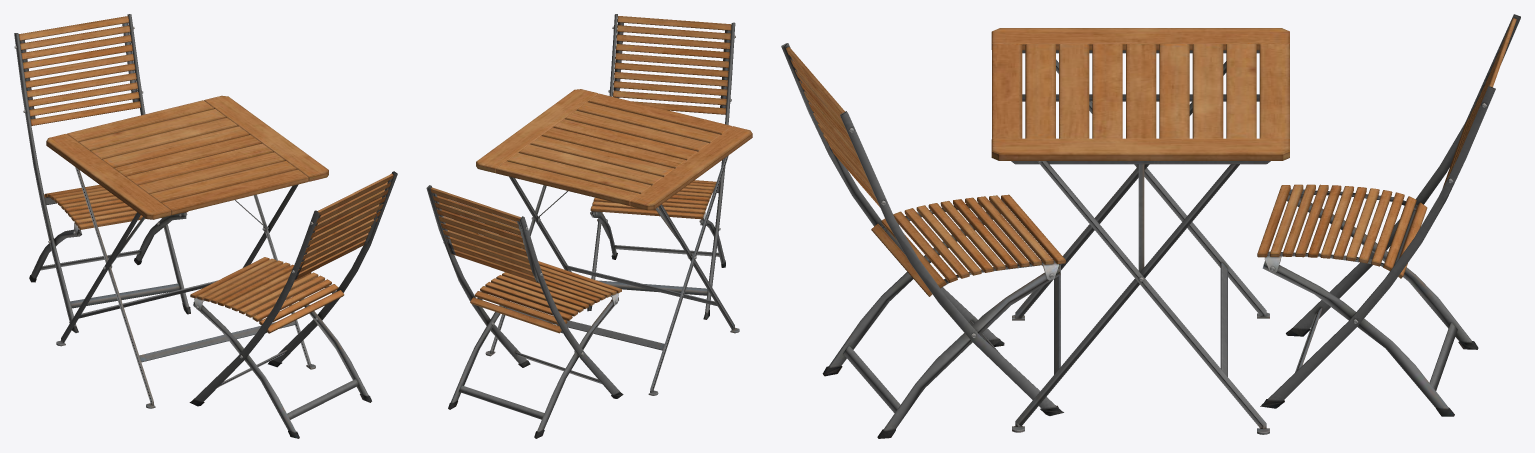
File: outdoor_set.glb
3 renders of one model, left to right at view 1: azimuth 30°, elevation 25°; view 2: azimuth 150°, elevation 25°; view 3: azimuth 270°, elevation 25°, orthographic. The views are drawn at different scales.
Visible parts, largest first — view 1: outdoor_table_chair_set_01_chair_01, outdoor_table_chair_set_01_table; view 2: outdoor_table_chair_set_01_chair_01, outdoor_table_chair_set_01_table; view 3: outdoor_table_chair_set_01_table, outdoor_table_chair_set_01_chair_01.
Part boxes in pixels (x1,y1,x2,y2): outdoor_table_chair_set_01_chair_01: (14,14,397,438); outdoor_table_chair_set_01_table: (46,95,328,408); outdoor_table_chair_set_01_chair_01: (426,14,735,438); outdoor_table_chair_set_01_table: (476,89,752,395); outdoor_table_chair_set_01_table: (991,28,1289,434); outdoor_table_chair_set_01_chair_01: (781,14,1520,438).
Bounding box in the file's own units: 0.7417 × 0.8579 × 1.72.
Materials: 2 (2 with a texture image).
